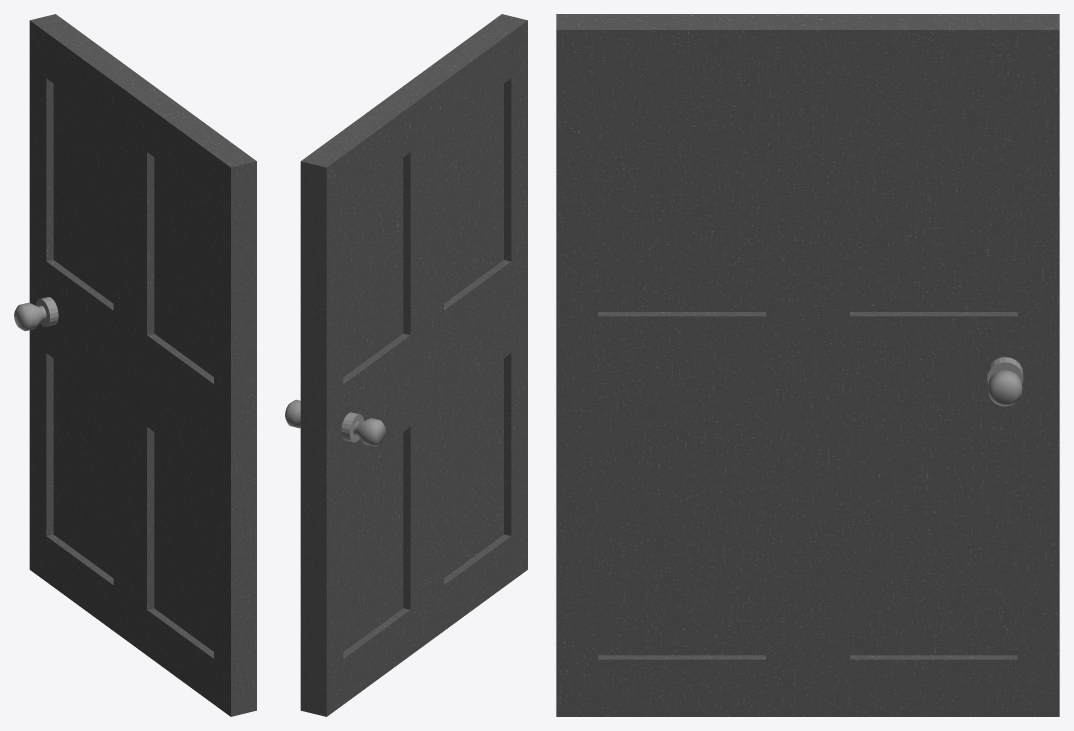
Rendered from Door.fbx.
The picture shows the model from 3 angles, left to right: view 1: azimuth 30°, elevation 25°; view 2: azimuth 150°, elevation 25°; view 3: azimuth 270°, elevation 25°; orthographic projection. The views are drawn at different scales.
Parts seen in each view (by area): view 1: Door, DoorHandle; view 2: Door, DoorHandle; view 3: Door, DoorHandle.
Part boxes in pixels (x1,y1,x2,y2): Door: (29,14,256,716); DoorHandle: (14,297,58,331); Door: (300,14,527,716); DoorHandle: (285,399,385,446); Door: (556,14,1059,716); DoorHandle: (987,357,1023,406).
Size of the model in its own units: 0.3683 by 2.12 by 1.4.
